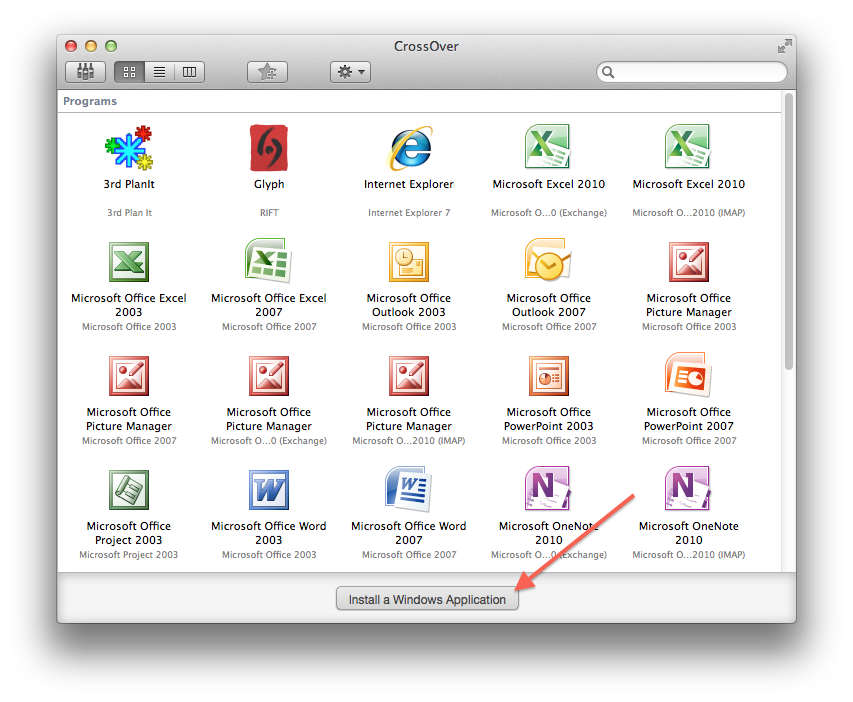searchIcon: (592, 62, 616, 83)
